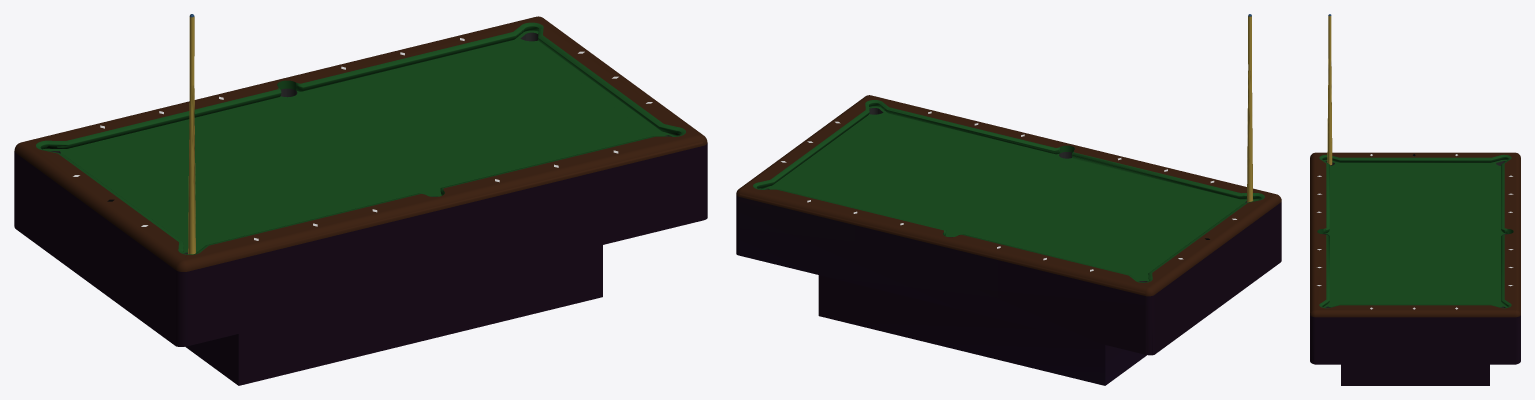
The model's file is pool-table.glb.
The picture shows the model from 3 angles, left to right: view 1: azimuth 30°, elevation 25°; view 2: azimuth 150°, elevation 25°; view 3: azimuth 270°, elevation 25°; orthographic projection. The views are drawn at different scales.
Parts seen in each view (by area): view 1: Base, Felt, Edges, Cue; view 2: Base, Felt, Edges, Cue; view 3: Felt, Base, Edges, Cue.
Part boxes in pixels (x1,y1,x2,y2): Base: (14,143,707,385); Felt: (36,22,685,254); Edges: (14,16,707,271); Cue: (188,16,195,254); Base: (736,195,1281,385); Felt: (753,100,1264,282); Edges: (736,95,1281,296); Cue: (1247,16,1253,202); Felt: (1317,154,1513,308); Base: (1310,315,1520,385); Edges: (1310,152,1520,317); Cue: (1327,16,1332,165).
Bounding box in the file's own units: 3.06 × 2.16 × 1.69.
